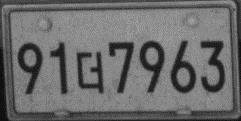1: (45, 41, 74, 95)
3: (199, 39, 225, 92)
6: (169, 39, 196, 94)
7: (106, 40, 135, 94)
9: (138, 39, 166, 93), (16, 42, 44, 95)
더: (75, 50, 104, 94)
